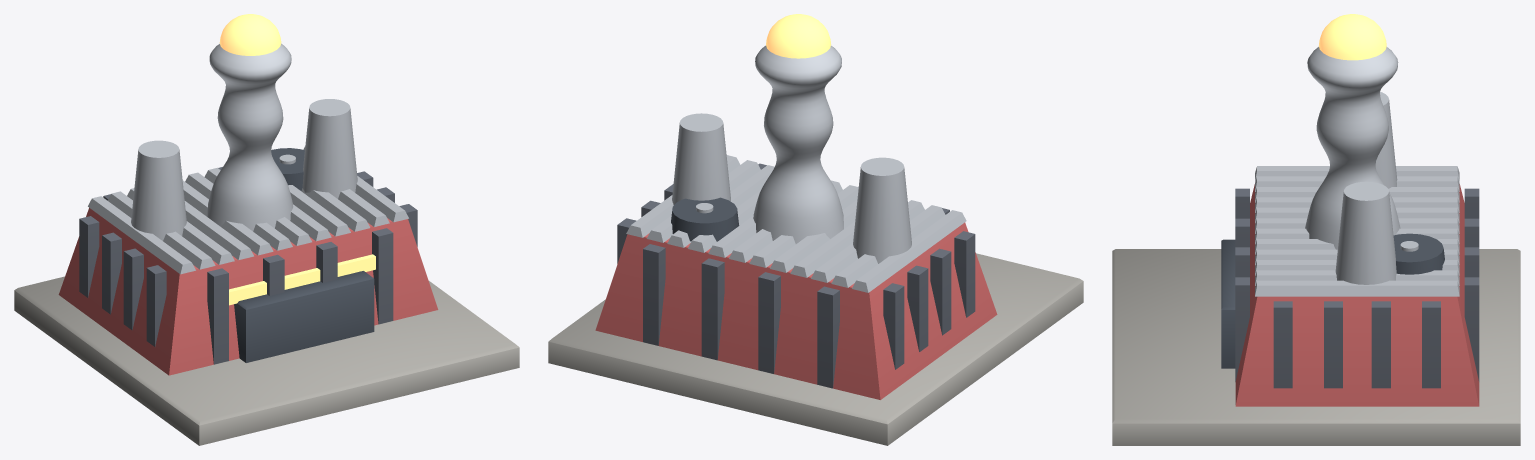
File: nahand.glb
3 views of the same model, side by side, from view 1: azimuth 30°, elevation 25°; view 2: azimuth 150°, elevation 25°; view 3: azimuth 270°, elevation 25° (orthographic). The views are drawn at different scales.
Visible parts, largest first — view 1: Hull; view 2: Hull; view 3: Hull.
Boxes of the visible parts, x1,y1,x2,y2 form: Hull: [14, 14, 519, 445]; Hull: [548, 14, 1083, 445]; Hull: [1112, 14, 1520, 445].
Bounding box in the file's own units: 3.24 × 3 × 3.24.
